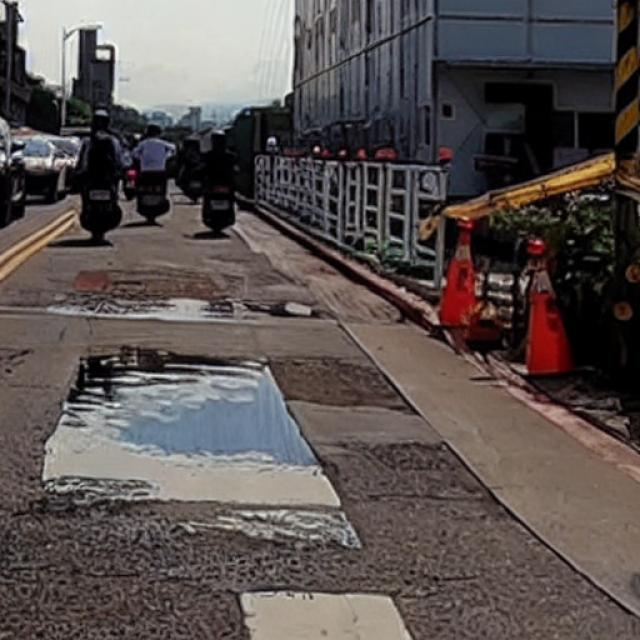puddle: (41, 354, 365, 546)
